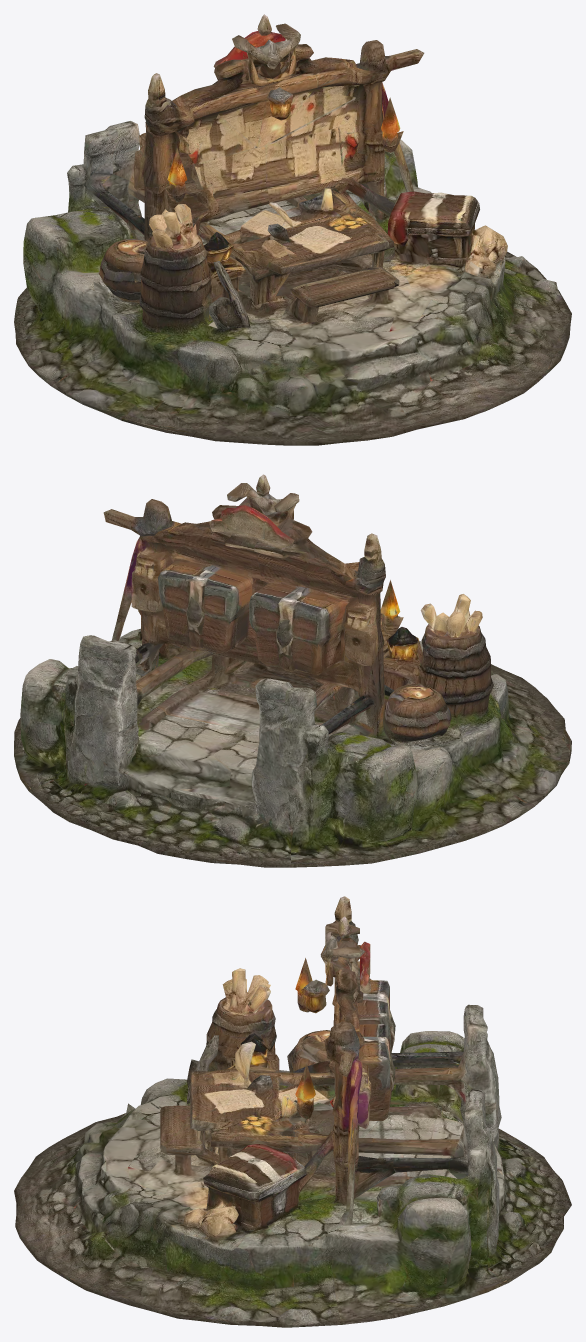
The model's file is rooms.optimized.glb.
3 views of the same model, one above another, from view 1: azimuth 30°, elevation 25°; view 2: azimuth 150°, elevation 25°; view 3: azimuth 270°, elevation 25° (orthographic).
Size of the model in its own units: 1.9 by 1.1 by 1.89.
Materials: 1 (1 with a texture image).
